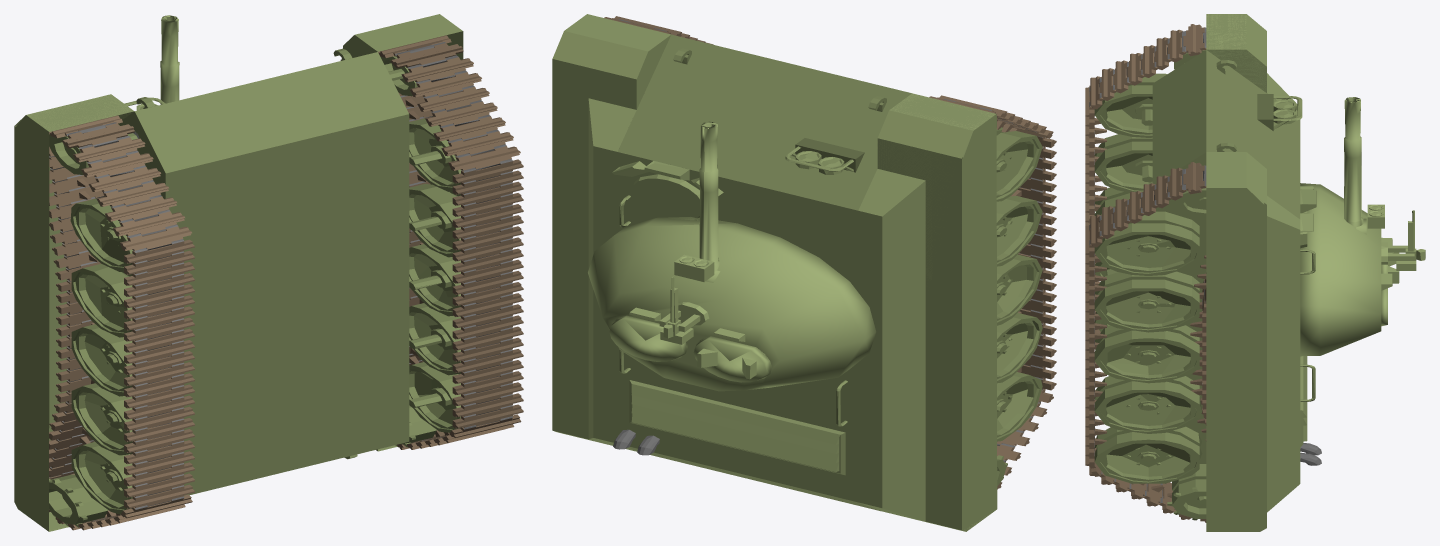
3 renders of one model, left to right at view 1: azimuth 30°, elevation 25°; view 2: azimuth 150°, elevation 25°; view 3: azimuth 270°, elevation 25°, orthographic. The views are drawn at different scales.
Visible parts, largest first — view 1: T302; view 2: T302; view 3: T302.
Part boxes in pixels (x1=…): T302: x1=14, y1=14, x2=523, y2=531; T302: x1=552, y1=14, x2=1056, y2=531; T302: x1=1085, y1=14, x2=1425, y2=531.
Size of the model in its own units: 0.6617 by 0.616 by 0.5467.
